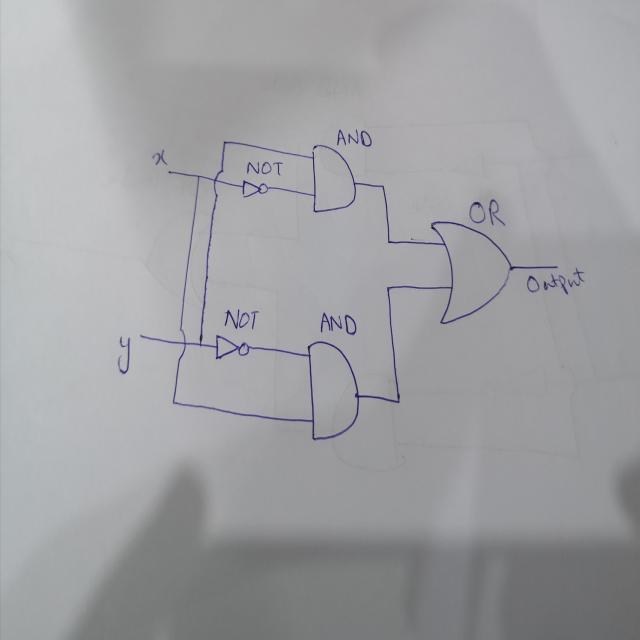crossover: (176, 327, 188, 361), (212, 168, 224, 197)
junction: (393, 388, 404, 409), (384, 234, 394, 250), (378, 179, 388, 194), (383, 280, 392, 296), (197, 336, 204, 352), (170, 394, 178, 407), (220, 135, 228, 147), (193, 170, 200, 182)
terminal: (552, 260, 560, 271), (165, 166, 172, 176), (138, 330, 144, 340)
text: (525, 264, 586, 296), (466, 196, 506, 228), (320, 309, 358, 336), (222, 307, 260, 333), (336, 127, 374, 149), (247, 157, 284, 179), (116, 334, 133, 374), (152, 148, 168, 165)
